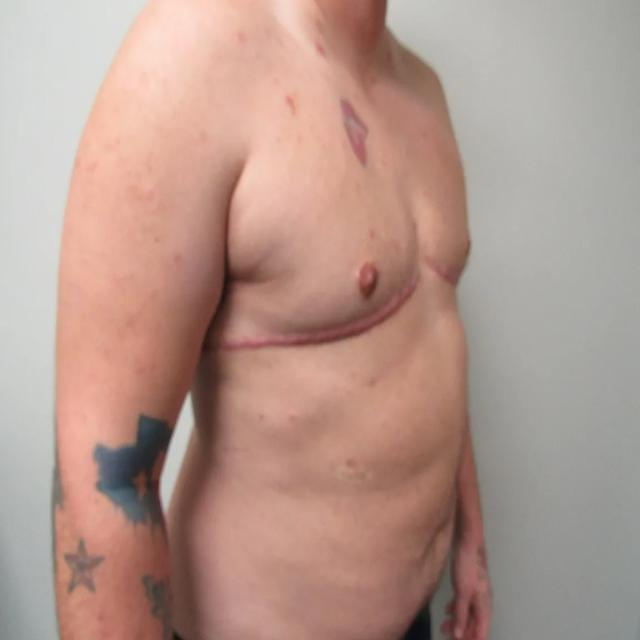Seno herido: (195, 96, 418, 385), (422, 96, 480, 309)
